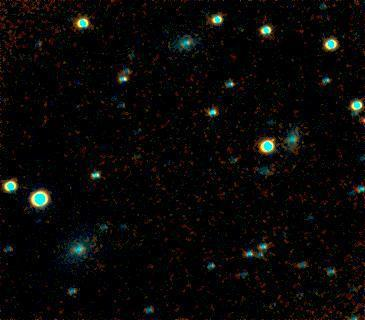star: (259, 125, 289, 155)
